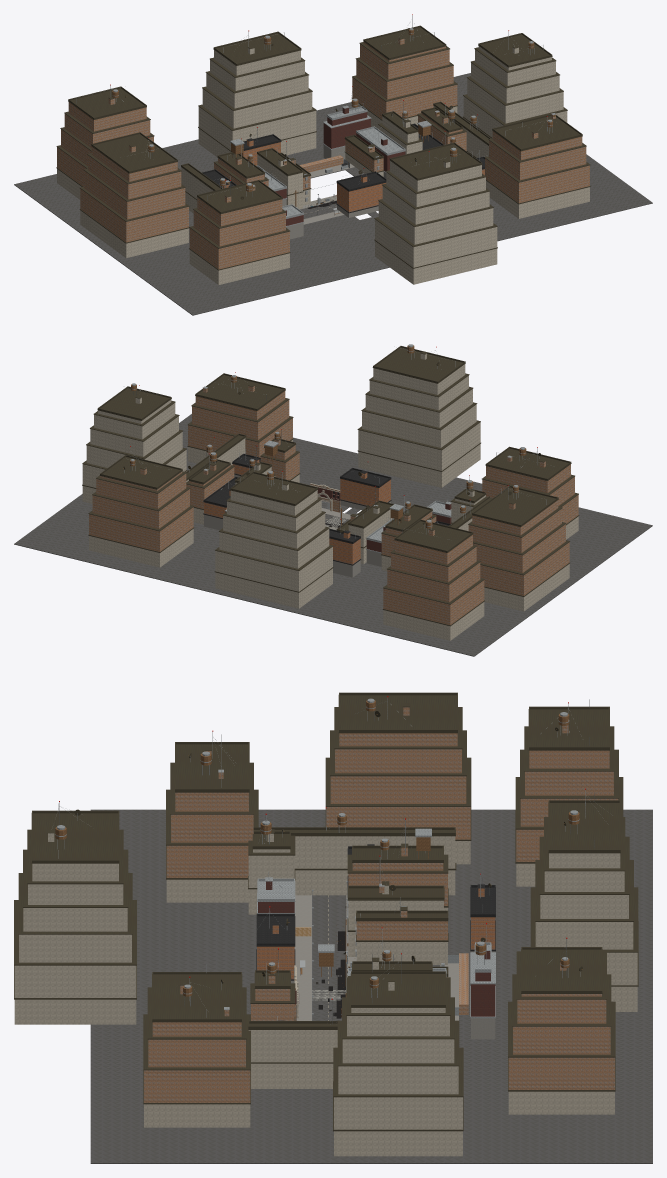
The model's file is site_street_common.gltf.
3 views of the same model, one above another, from view 1: azimuth 30°, elevation 25°; view 2: azimuth 150°, elevation 25°; view 3: azimuth 270°, elevation 25° (orthographic). The views are drawn at different scales.
Parts seen in each view (by area): view 1: F01_OWN_STREET_furniture_limestone-col, F01_OWN_STREET_furniture_common_brick-col, F01_OWN_STREET_furniture_bronze-col, F01_OWN_STREET_furniture_asphalt-col, F01_OWN_STREET_furniture_metal-col, F01_OWN_STREET_furniture_face_brick-col, F01_OWN_STREET_furniture_soot-col, F01_OWN_STREET_furniture_brick_patched-col, F01_OWN_STREET_furniture_concrete-col, F01_OWN_STREET_furnish_metal, F01_OWN_STREET_furnish_timber; view 2: F01_OWN_STREET_furniture_limestone-col, F01_OWN_STREET_furniture_common_brick-col, F01_OWN_STREET_furniture_bronze-col, F01_OWN_STREET_furniture_asphalt-col, F01_OWN_STREET_furniture_brick_patched-col, F01_OWN_STREET_furniture_soot-col, F01_OWN_STREET_furniture_concrete-col, F01_OWN_STREET_furnish_metal, F01_OWN_STREET_furniture_metal-col, F01_OWN_STREET_furnish_timber; view 3: F01_OWN_STREET_furniture_asphalt-col, F01_OWN_STREET_furniture_bronze-col, F01_OWN_STREET_furniture_limestone-col, F01_OWN_STREET_furniture_common_brick-col, F01_OWN_STREET_furniture_concrete-col, F01_OWN_STREET_furniture_metal-col, F01_OWN_STREET_furniture_soot-col, F01_OWN_STREET_furnish_metal, F01_OWN_STREET_furniture_brick_patched-col, F01_OWN_STREET_furniture_face_brick-col, F01_OWN_STREET_furnish_timber, F01_OWN_STREET_furniture_wet_asphalt-col.
Boxes of the visible parts, x1,y1,x2,y2 form: F01_OWN_STREET_furniture_limestone-col: [57, 46, 589, 284]; F01_OWN_STREET_furniture_common_brick-col: [57, 38, 589, 269]; F01_OWN_STREET_furniture_bronze-col: [56, 25, 590, 270]; F01_OWN_STREET_furniture_asphalt-col: [14, 73, 652, 315]; F01_OWN_STREET_furniture_metal-col: [226, 105, 555, 226]; F01_OWN_STREET_furniture_face_brick-col: [264, 108, 405, 225]; F01_OWN_STREET_furniture_soot-col: [202, 123, 484, 213]; F01_OWN_STREET_furniture_brick_patched-col: [222, 140, 484, 212]; F01_OWN_STREET_furniture_concrete-col: [282, 145, 386, 239]; F01_OWN_STREET_furnish_metal: [76, 15, 552, 207]; F01_OWN_STREET_furnish_timber: [112, 29, 552, 204]; F01_OWN_STREET_furniture_limestone-col: [82, 353, 578, 640]; F01_OWN_STREET_furniture_common_brick-col: [89, 386, 578, 625]; F01_OWN_STREET_furniture_bronze-col: [82, 346, 579, 626]; F01_OWN_STREET_furniture_asphalt-col: [14, 414, 652, 656]; F01_OWN_STREET_furniture_brick_patched-col: [204, 459, 390, 564]; F01_OWN_STREET_furniture_soot-col: [203, 453, 450, 565]; F01_OWN_STREET_furniture_concrete-col: [204, 474, 390, 577]; F01_OWN_STREET_furnish_metal: [124, 344, 546, 538]; F01_OWN_STREET_furniture_metal-col: [203, 386, 512, 553]; F01_OWN_STREET_furnish_timber: [130, 345, 526, 528]; F01_OWN_STREET_furniture_asphalt-col: [90, 809, 652, 1163]; F01_OWN_STREET_furniture_bronze-col: [14, 692, 638, 1131]; F01_OWN_STREET_furniture_limestone-col: [14, 833, 637, 1156]; F01_OWN_STREET_furniture_common_brick-col: [144, 707, 618, 1102]; F01_OWN_STREET_furniture_concrete-col: [291, 895, 495, 1088]; F01_OWN_STREET_furniture_metal-col: [218, 769, 495, 1020]; F01_OWN_STREET_furniture_soot-col: [256, 844, 495, 1020]; F01_OWN_STREET_furnish_metal: [55, 697, 604, 1024]; F01_OWN_STREET_furniture_brick_patched-col: [257, 888, 495, 979]; F01_OWN_STREET_furniture_face_brick-col: [258, 881, 495, 1016]; F01_OWN_STREET_furnish_timber: [55, 700, 579, 1017]; F01_OWN_STREET_furniture_wet_asphalt-col: [318, 931, 347, 1018].
Size of what is drawn, in the model's own units: 220 by 54.93 by 168.
Materials: 27 (26 with a texture image).
